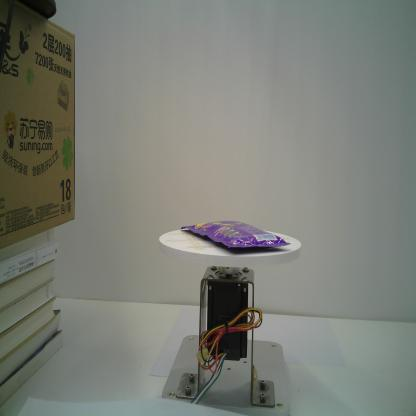Candy: (180, 220, 292, 252)
